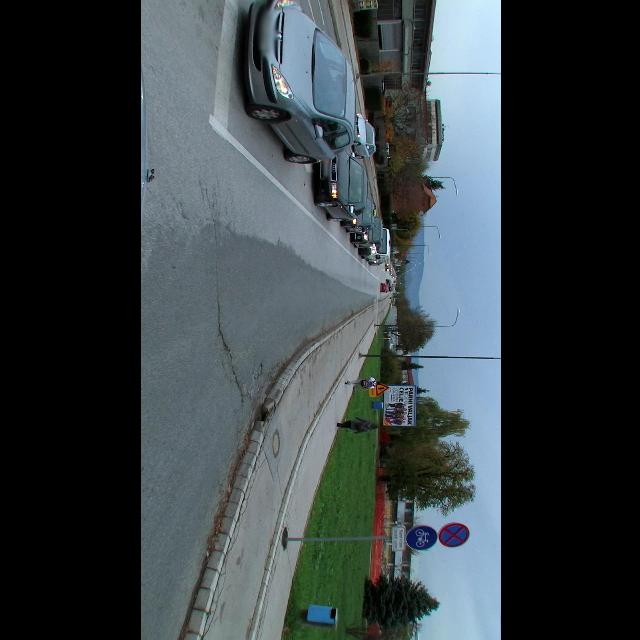Rectangle: (390, 526, 402, 552)
Round: (438, 522, 469, 548), (405, 526, 437, 550)
Triangle: (374, 382, 390, 396)
